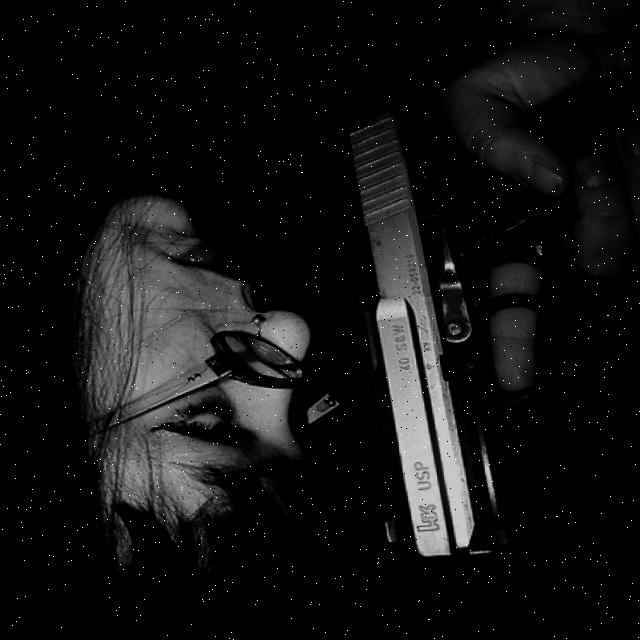pistol: (332, 87, 603, 569)
